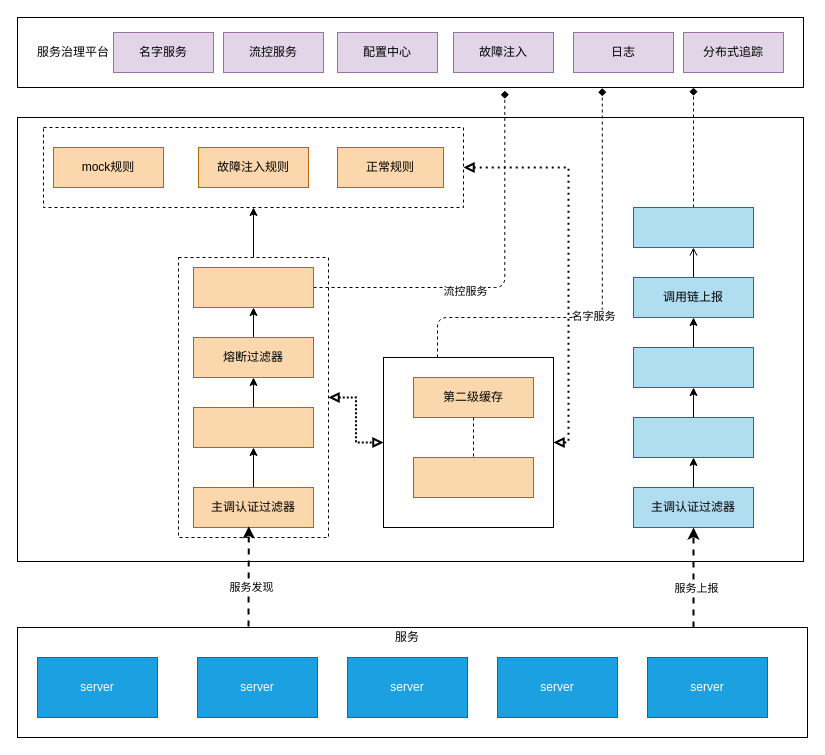
This 825x755 diagram has some shape labels left out. The shapes that lost their labels are listed below. From the top down, each one's centre as x and y in pixels, then its label:
At point 693,227: "模调上报".
At point 253,287: "限流过滤器".
At point 693,367: "L5/北极星上报".
At point 253,427: "权限过滤器".
At point 693,437: "熔断器上报".
At point 473,477: "第一级缓存".
